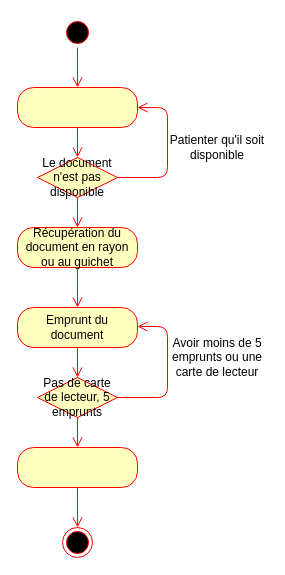
This 285x575 diagram has some shape labels left out. Each missing label, with the centre of its shape:
"Consultation de document sur poste informatique" goes at [77,107].
"Document de prêt crée" goes at [77,467].
